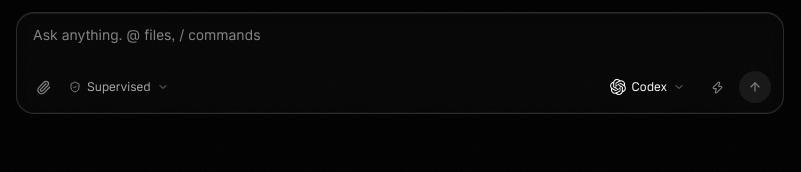
Scenario: composer › shows a fast-mode bolt only when the provider exposes it and toggles it
Click the button named "Fast mode" at [717, 87], box x1=701 y1=71 x2=733 y2=103
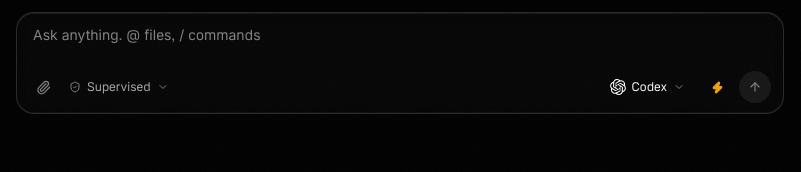
Check: the button named "Fast mode" is pressed, box x1=701 y1=71 x2=733 y2=103
Check: the button named "Fast mode" has class "text-warning", box x1=701 y1=71 x2=733 y2=103
